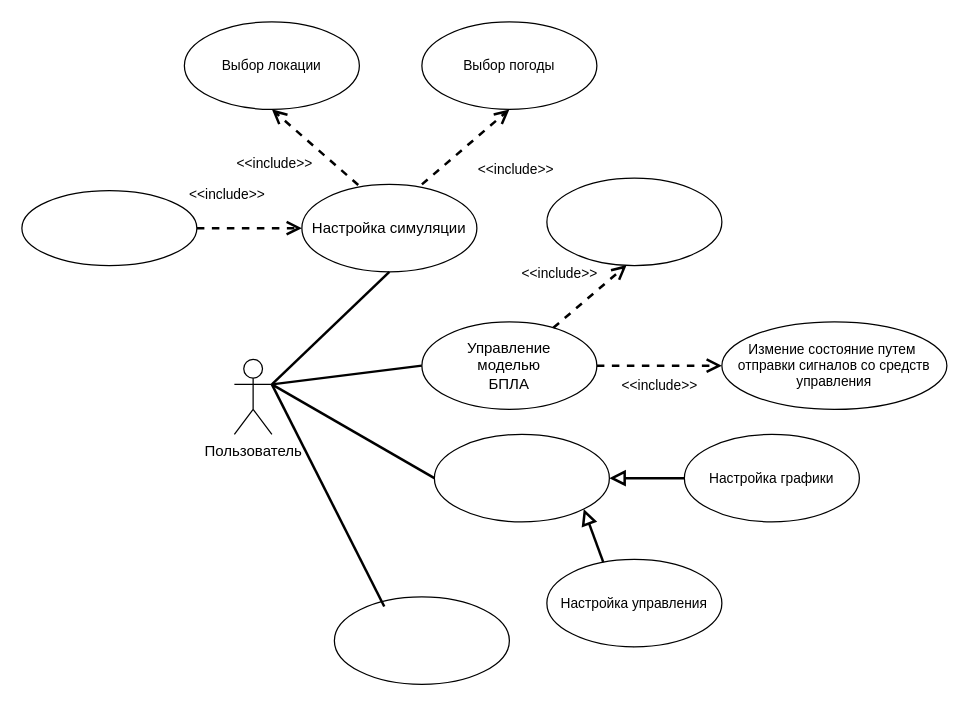
Some shapes in this 969 by 706 pixel diagram are drawn without their labels. Each missing label, with the centre of its shape:
Выход из симулятора: (x=421, y=640)
Запуск симуляции: (x=109, y=227)
Настройка симулятора: (x=521, y=477)
Получение информации о состоянии БПЛА: (x=634, y=221)
